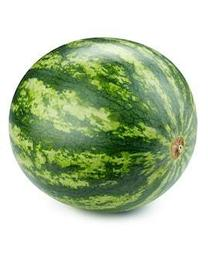watermelon: (9, 36, 198, 214)
